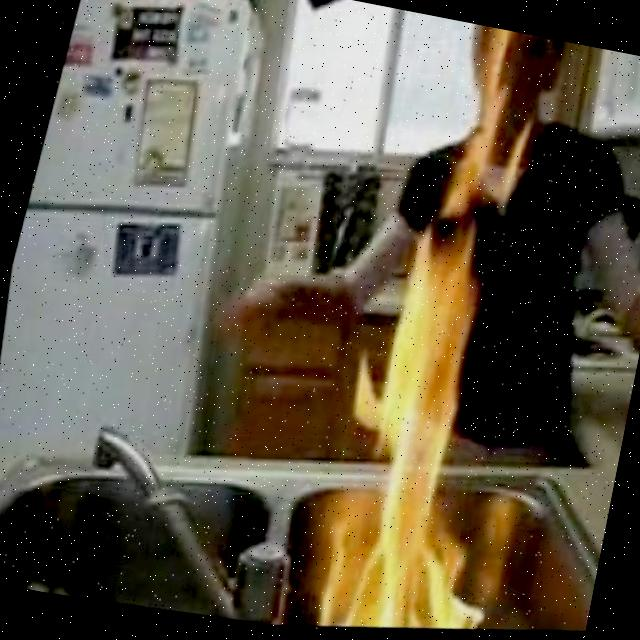fire: (249, 135, 585, 640), (418, 18, 571, 183)
